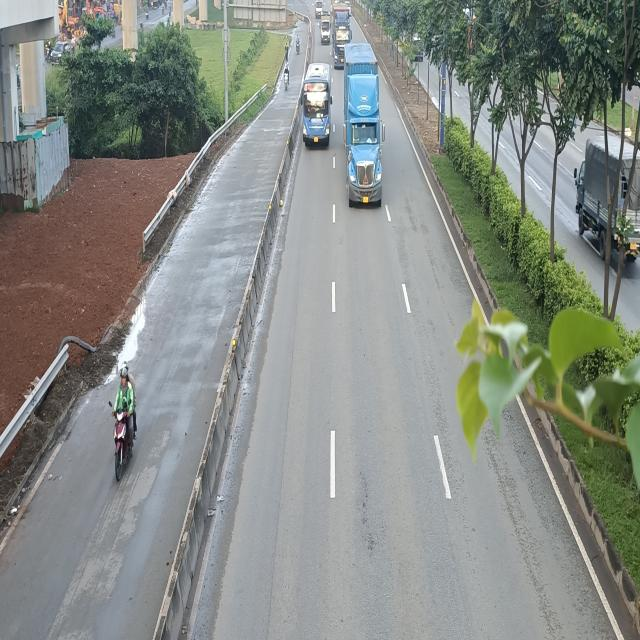coach: (299, 66, 332, 151)
container: (342, 43, 384, 208)
truck: (319, 13, 332, 45)
